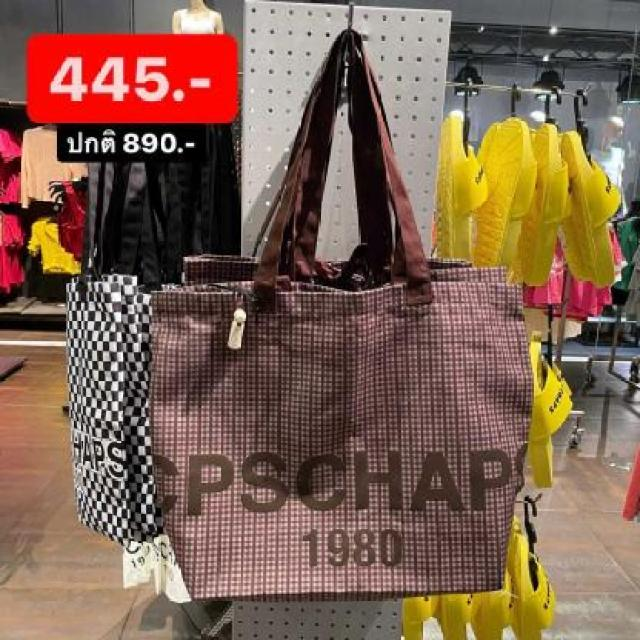Bag: (82, 9, 533, 640)
